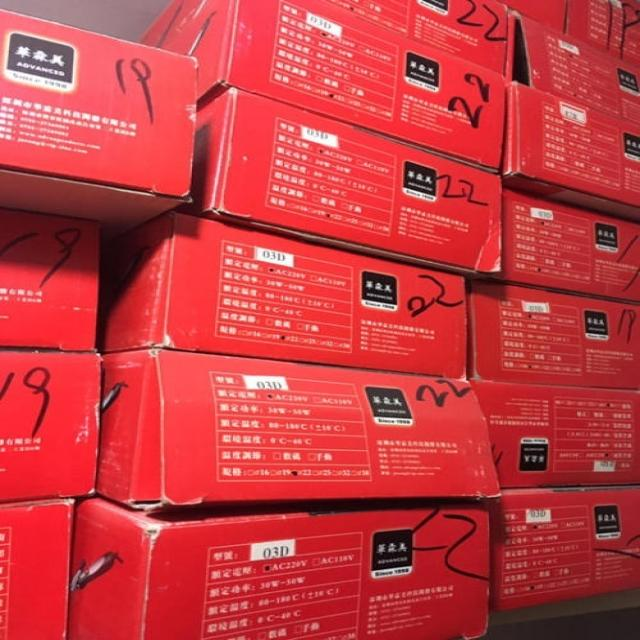box: (113, 1, 511, 171), (98, 349, 502, 514), (174, 90, 506, 277), (100, 212, 466, 379), (64, 497, 493, 639), (0, 11, 197, 249), (488, 484, 639, 613), (466, 380, 639, 490), (507, 81, 639, 224), (471, 281, 639, 391), (0, 349, 98, 508), (500, 191, 639, 301), (513, 9, 639, 126), (0, 208, 101, 353), (324, 0, 513, 77), (0, 500, 72, 639), (565, 0, 639, 60), (501, 1, 567, 34)
